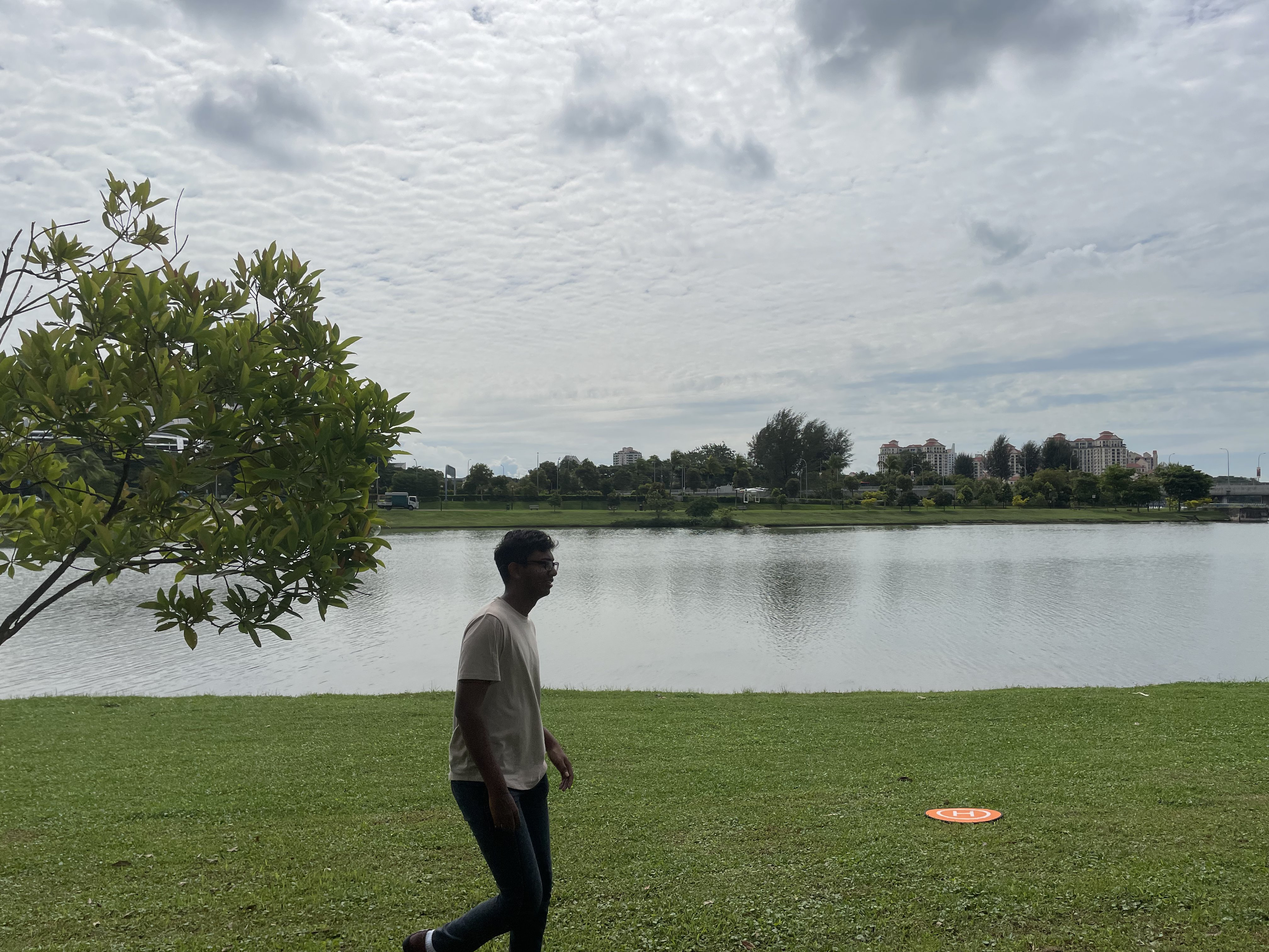drone_other: (732, 486, 774, 503)
